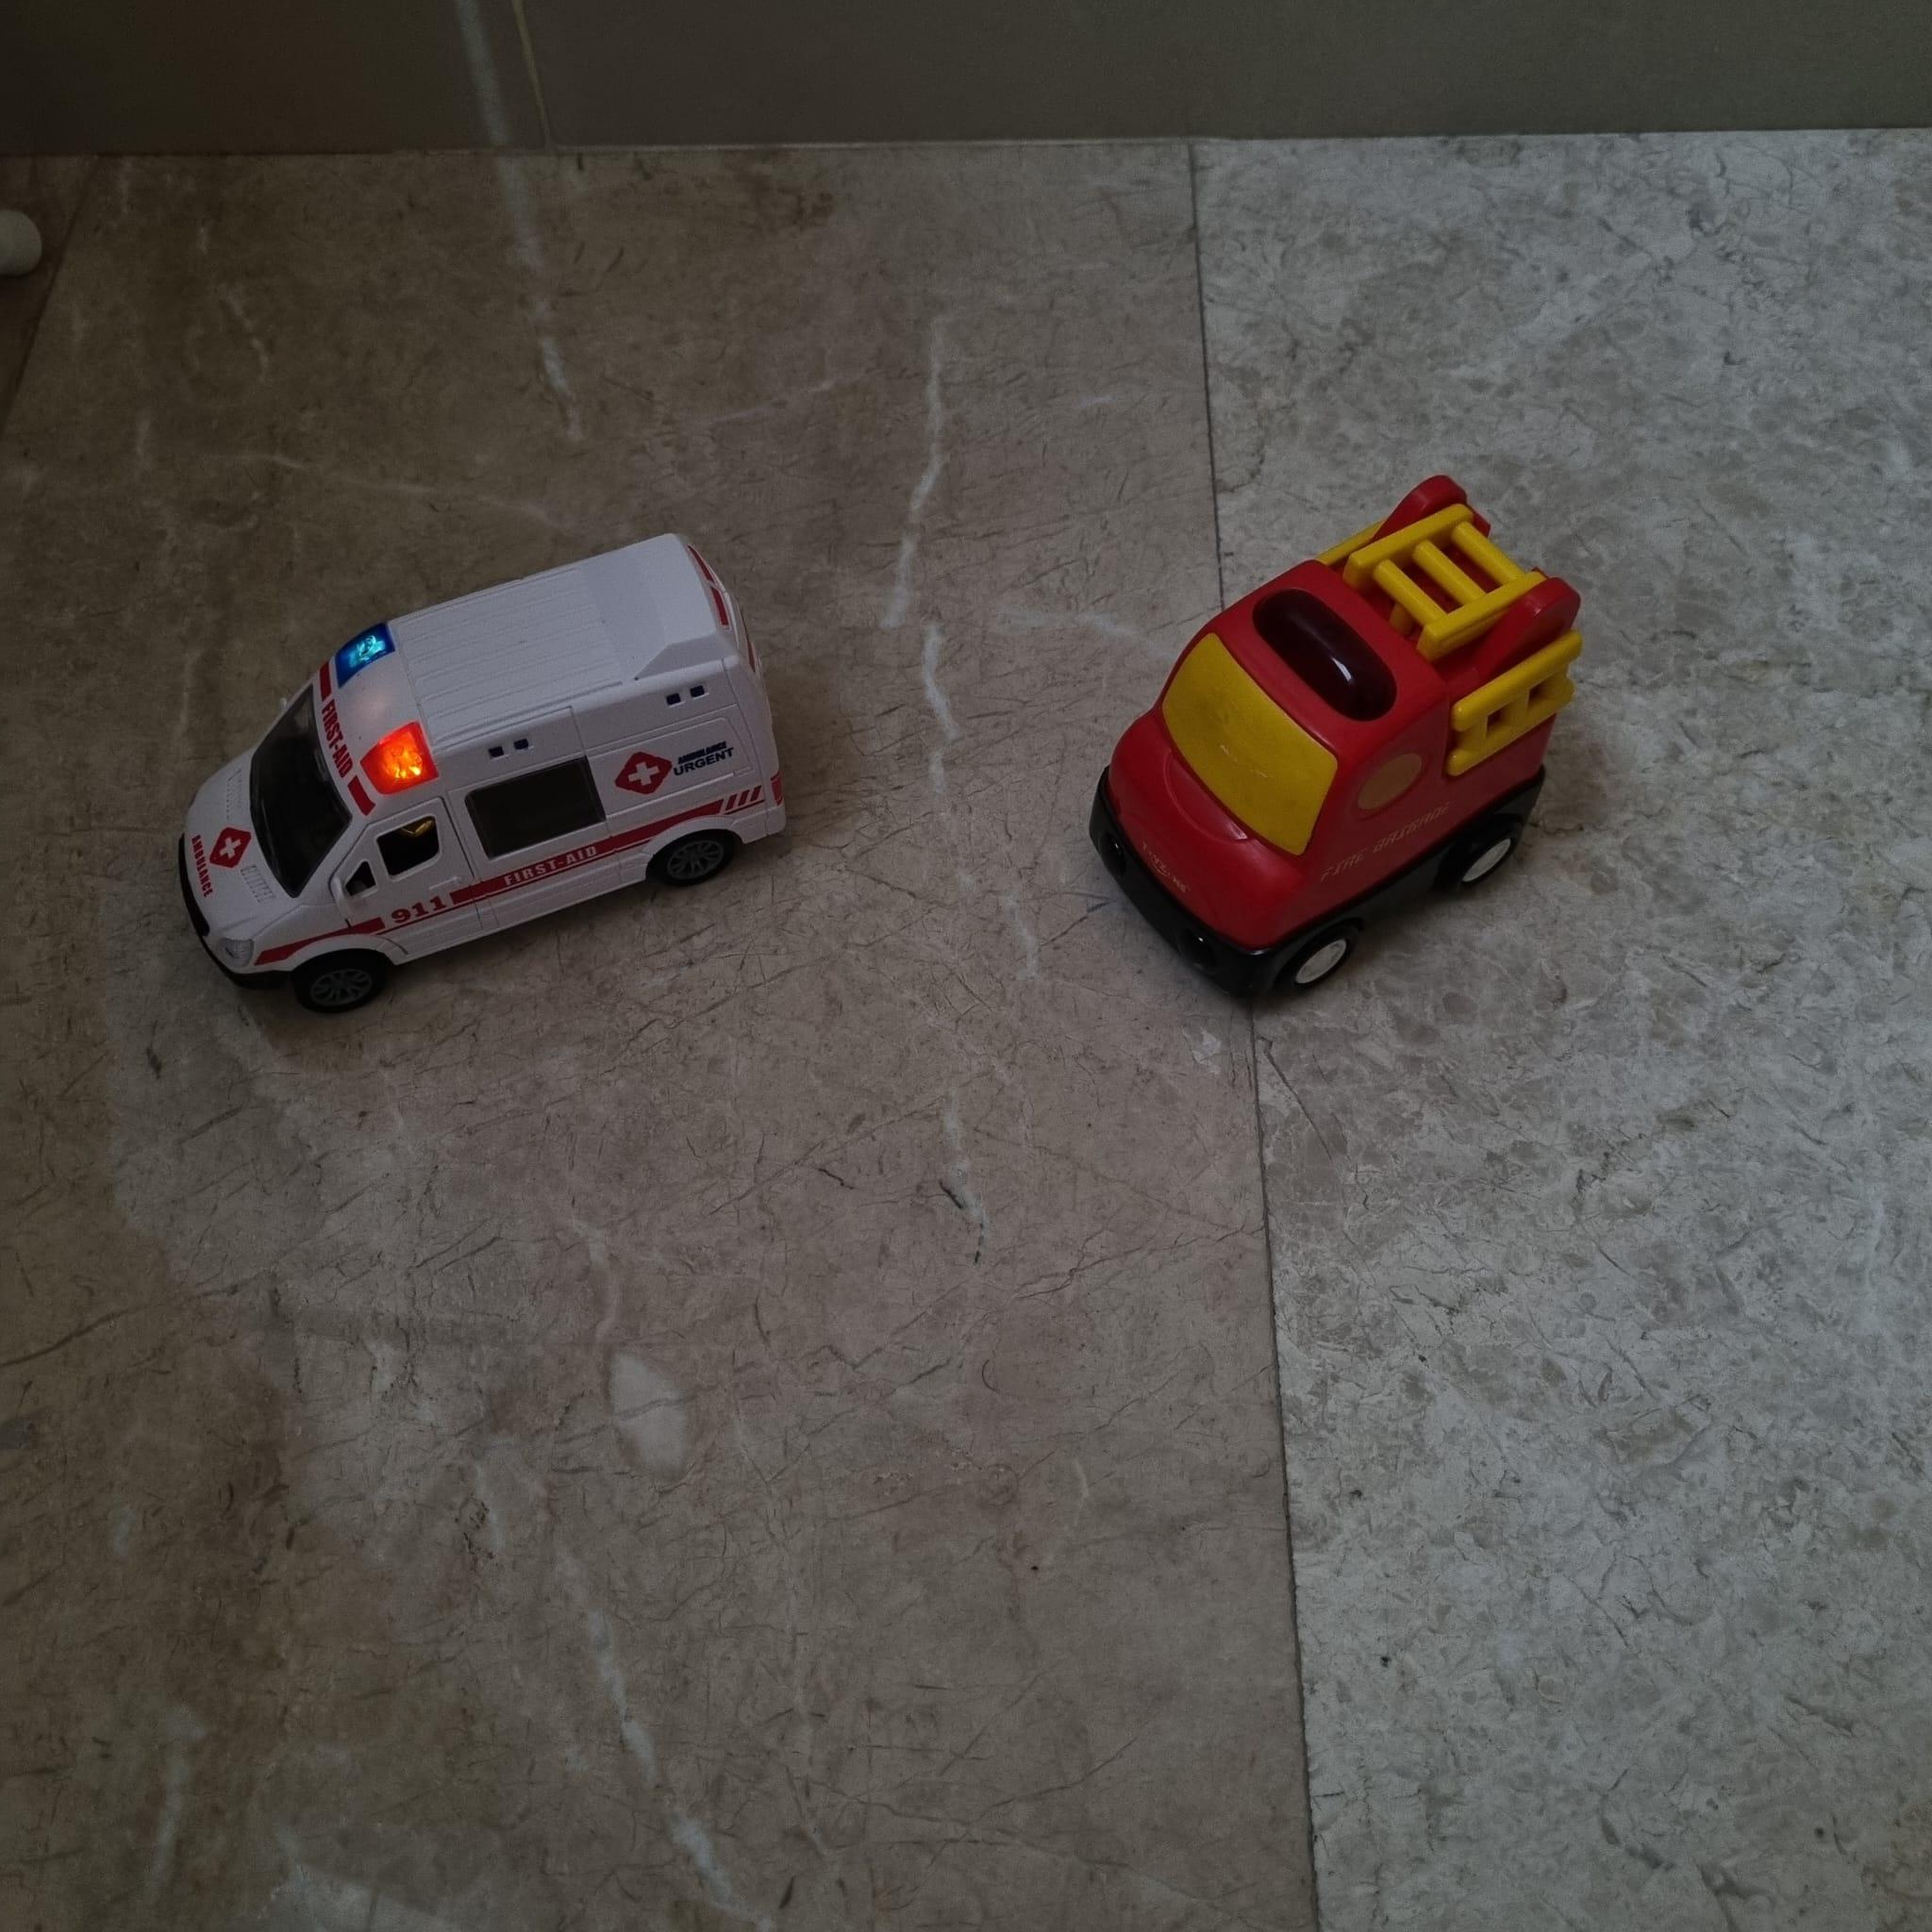ambulance_on: (173, 531, 789, 1021)
firetruck_off: (1085, 471, 1583, 1010)
